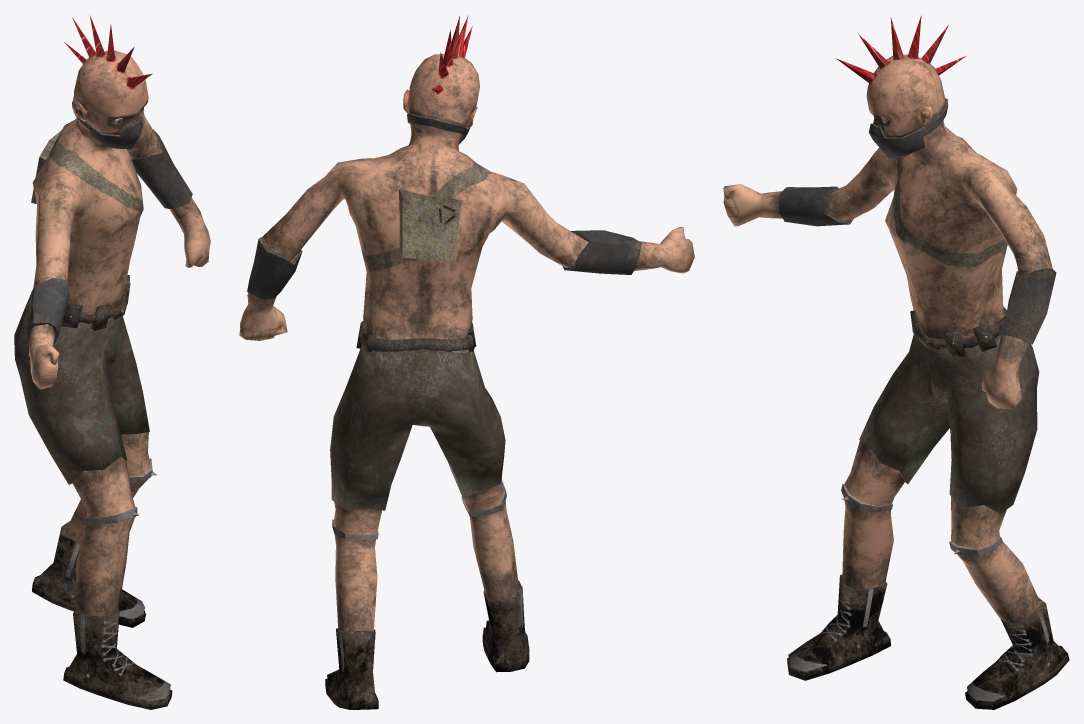
Rendered from Anim_interruptor_npc2.0024.obj.
The picture shows the model from 3 angles, left to right: view 1: azimuth 30°, elevation 25°; view 2: azimuth 150°, elevation 25°; view 3: azimuth 270°, elevation 25°; orthographic projection.
Visible parts, largest first — view 1: polySurface1; view 2: polySurface1; view 3: polySurface1.
Part boxes in pixels (x1,y1,x2,y2): polySurface1: [14, 14, 210, 709]; polySurface1: [239, 15, 694, 709]; polySurface1: [723, 15, 1069, 709].
Size of the model in its own units: 4.92 by 9.84 by 4.71.
